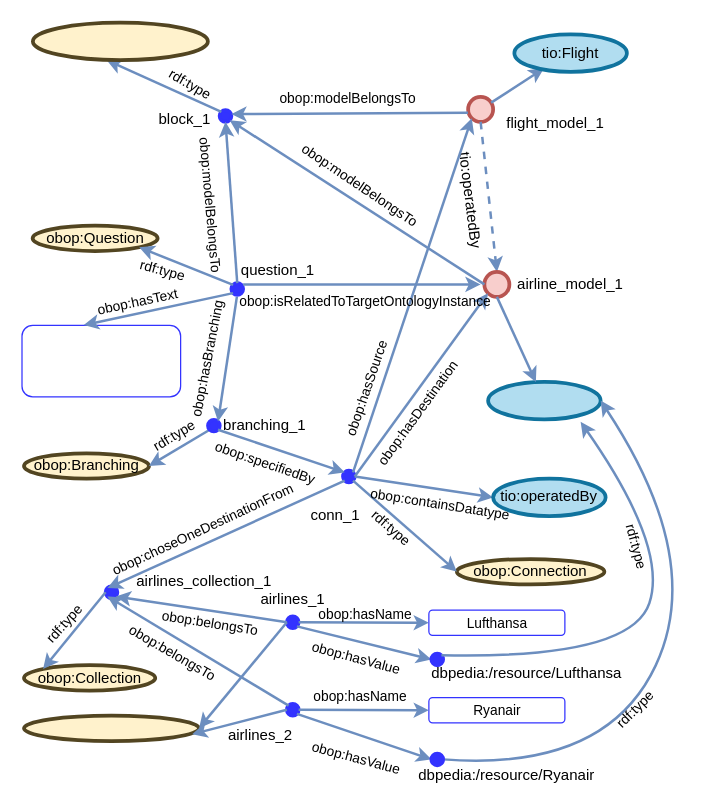
The diagram is 701 pixels wide and 810 high, and some of its shapes have lost their labels. Each missing label, with the box of its shape:
dbpedia:Agent: (486, 379, 602, 421)
Enter the airline that operates your flight. Chose one of the following options:: (21, 324, 181, 397)
obop:CollectionItem: (22, 713, 200, 742)
obop:ConversationBlock: (30, 20, 209, 61)
